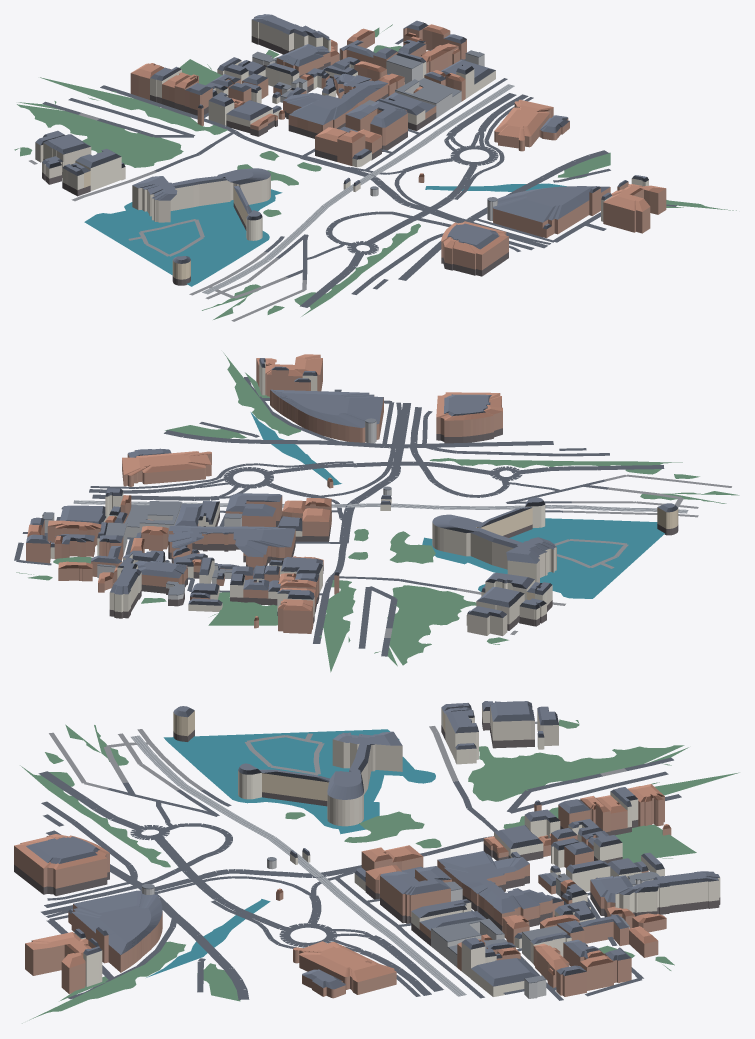
File: tile_5_2_lod0.glb
3 views of the same model, one above another, from view 1: azimuth 30°, elevation 25°; view 2: azimuth 150°, elevation 25°; view 3: azimuth 270°, elevation 25° (orthographic). The views are drawn at different scales.
Visible parts, largest first — view 1: TileRoot; view 2: TileRoot; view 3: TileRoot.
Part boxes in pixels (x1,y1,x2,y2): TileRoot: [14, 14, 736, 321]; TileRoot: [14, 352, 739, 672]; TileRoot: [14, 701, 739, 1023].
Size of the model in its own units: 457 by 30.67 by 470.
